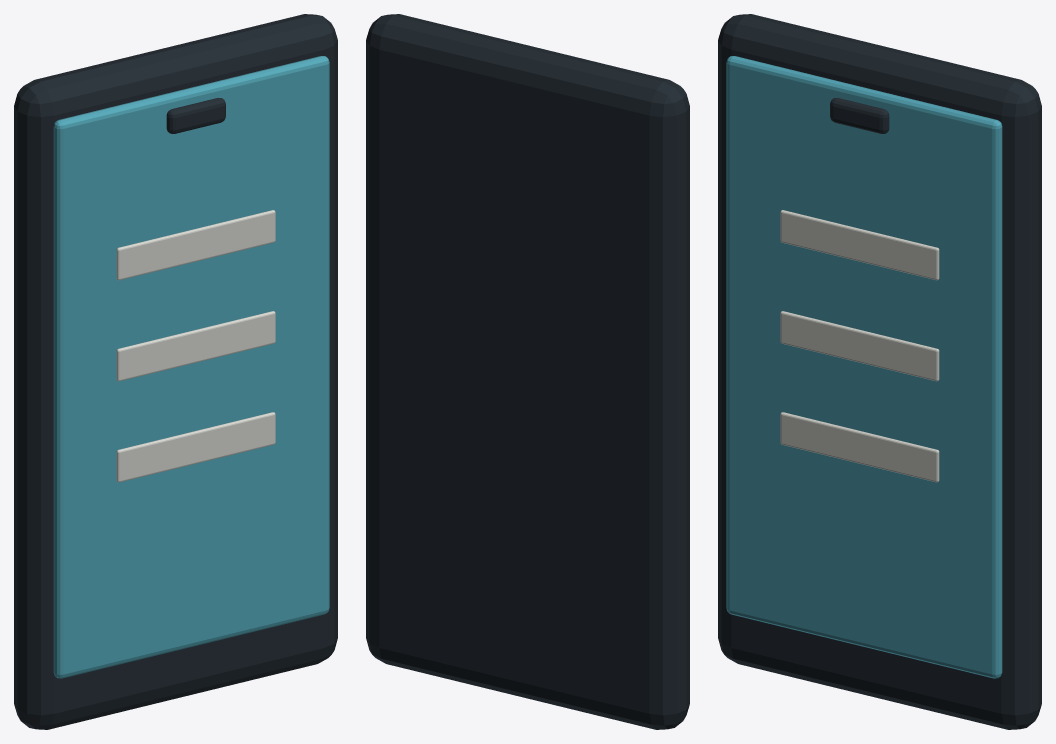
The model's file is phone.glb.
The picture shows the model from 3 angles, left to right: view 1: azimuth 30°, elevation 25°; view 2: azimuth 150°, elevation 25°; view 3: azimuth 330°, elevation 25°; orthographic projection.
Parts seen in each view (by area): view 1: phone; view 2: phone; view 3: phone.
Boxes of the visible parts, x1,y1,x2,y2 form: phone: (14, 14, 337, 729); phone: (366, 14, 689, 729); phone: (718, 14, 1041, 729).
Size of the model in its own units: 0.082 by 0.16 by 0.0165.
